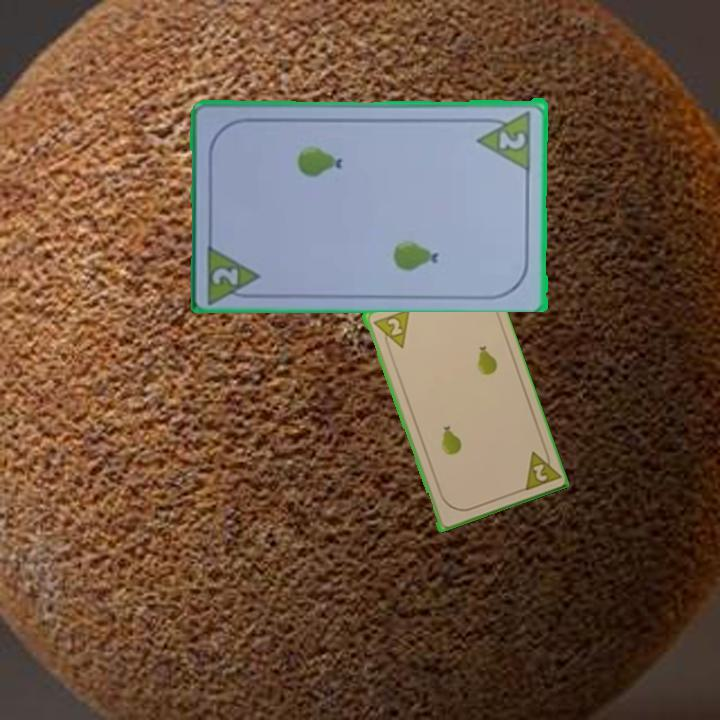2p: (203, 239, 265, 304), (518, 442, 562, 494), (368, 306, 412, 354), (495, 127, 529, 152)
